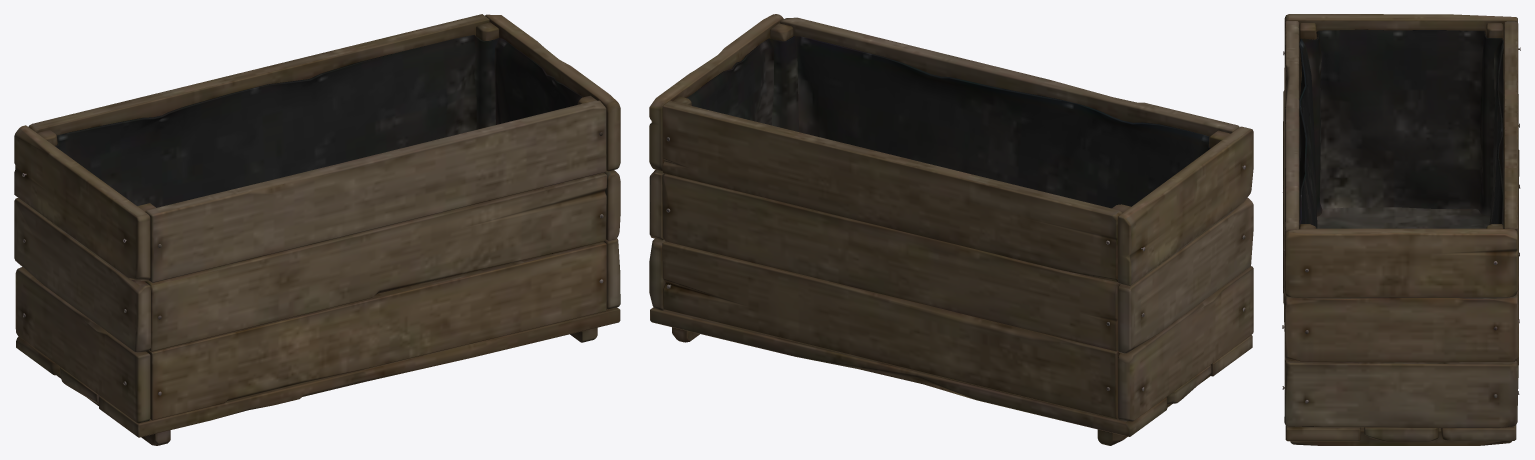
File: planter_box_01.glb
3 renders of one model, left to right at view 1: azimuth 30°, elevation 25°; view 2: azimuth 150°, elevation 25°; view 3: azimuth 270°, elevation 25°, orthographic. The views are drawn at different scales.
Visible parts, largest first — view 1: planter_box_01; view 2: planter_box_01; view 3: planter_box_01.
Part boxes in pixels (left/top/right/bottom): planter_box_01: left=14, top=14, right=620, bottom=445; planter_box_01: left=649, top=14, right=1253, bottom=445; planter_box_01: left=1282, top=14, right=1520, bottom=445.
Size of the model in its own units: 0.9126 by 0.425 by 0.4137.
Materials: 1 (1 with a texture image).
